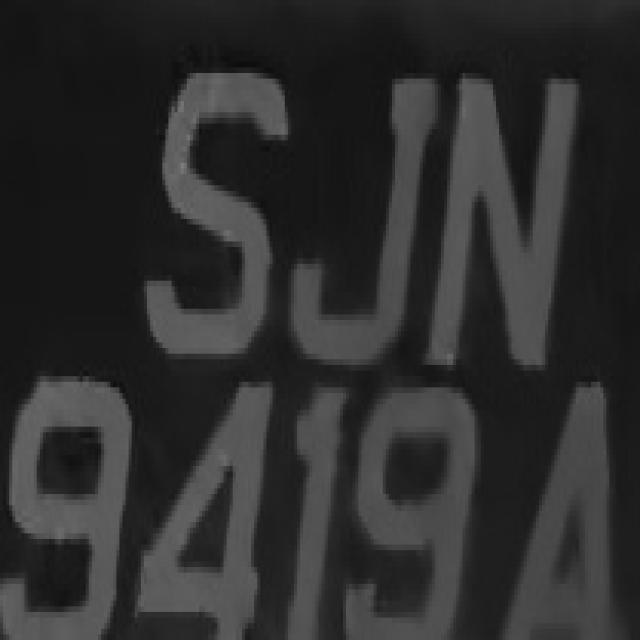1: (1, 3, 2, 6)
4: (0, 3, 2, 6)
9: (337, 370, 484, 640), (12, 337, 126, 640)
A: (490, 370, 624, 640)
J: (284, 62, 426, 376)
N: (416, 34, 585, 376)
S: (156, 62, 285, 376)
